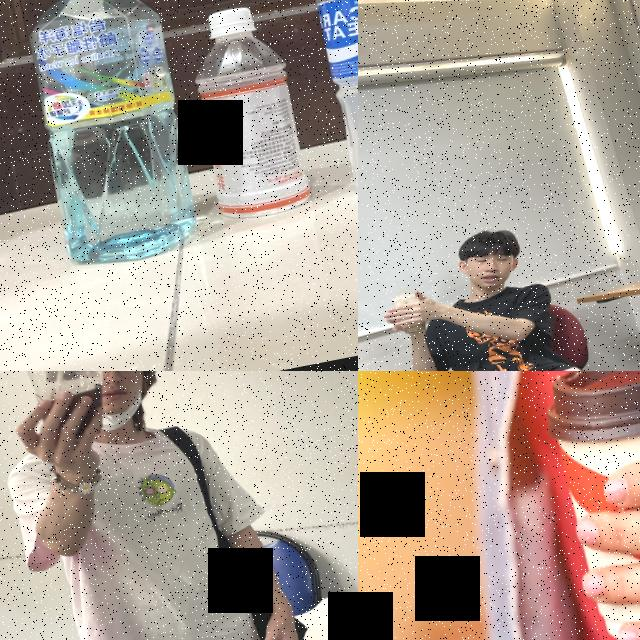bottle: (11, 0, 205, 274), (180, 2, 314, 225), (300, 0, 358, 218)
cup: (536, 371, 640, 640), (17, 371, 124, 447), (388, 290, 432, 336)
